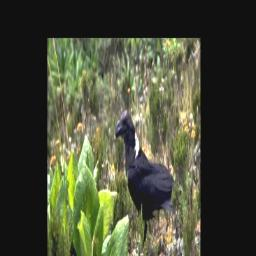Crow: (114, 108, 174, 248)
